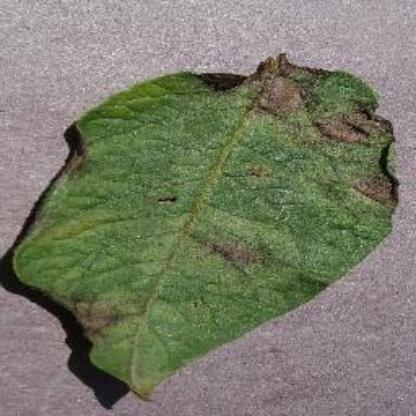Late-Blight: (8, 48, 406, 404)
